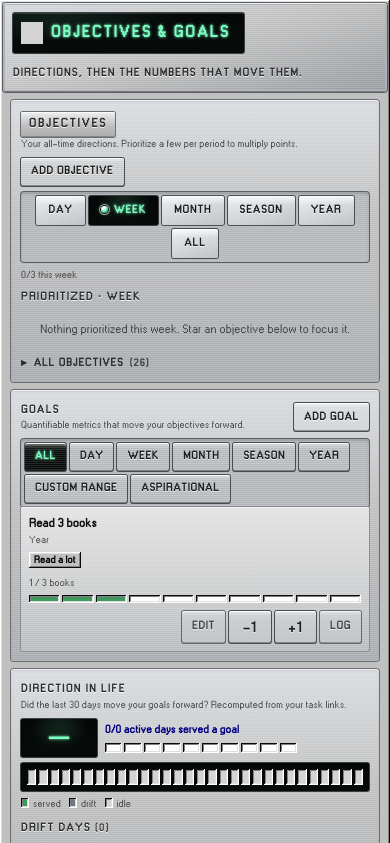
Test: GoalsTracker › increments goal progress when +1 is clicked
Step 1. Click the button "+1" → [295, 627], box [274,611,316,643]
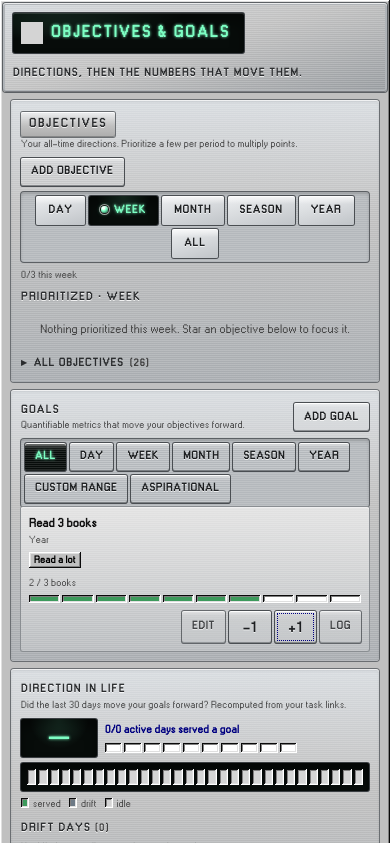
Expected: the text "2 / 3 books" is shown, [29,578,76,588]
